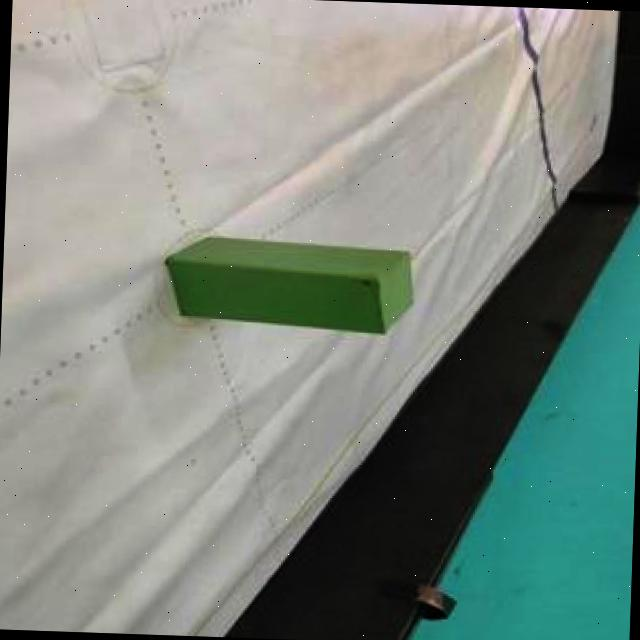greenbox: (162, 229, 421, 336)
